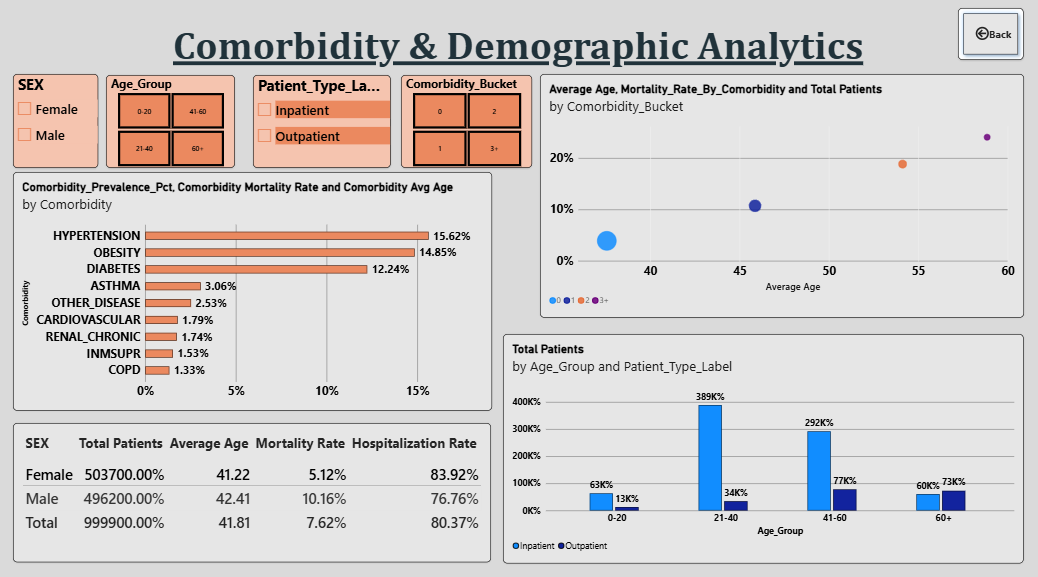

Layout of this report page (visuals, bound fields, positions):
{"tool":"powerbi","page":{"name":"Comorbidity & Demographic Analytics","canvas":[1920,1080],"ordinal":1},"visuals":[{"type":"textbox","box":[10,0,175,145],"z":0},{"type":"textbox","box":[322,50,1275,130],"z":1000},{"type":"clusteredBarChart","fields":{"Category":["Comorbidity_Long.Comorbidity"],"Y":["Measures (2).Comorbidity_Prevalence_Pct"]},"box":[30,323.3,876.7,436.7],"z":2000},{"type":"scatterChart","fields":{"Series":["Covid_Patients.Comorbidity_Bucket"],"Size":["Measures (2).Total Patients"],"X":["Measures (2).Average Age"],"Y":["Measures (2).Mortality_Rate_By_Comorbidity"]},"box":[994,144,886,446],"z":3000},{"type":"tableEx","fields":{"Values":["Covid_Patients.SEX","Measures (2).Total Patients","Measures (2).Average Age","Measures (2).Mortality Rate","Measures (2).Hospitalization_Rate_Pct"]},"box":[30,783.3,875,255],"z":4000},{"type":"clusteredColumnChart","fields":{"Category":["Covid_Patients.Age_Group"],"Series":["Covid_Patients.Patient_Type_Label"],"Y":["Measures (2).Total Patients"]},"box":[926.7,620,953.3,420],"z":5000},{"type":"slicer","fields":{"Values":["Covid_Patients.SEX"]},"box":[30,144,156,172],"z":6000},{"type":"slicer","fields":{"Values":["Covid_Patients.Age_Group"]},"box":[200,146,236,170],"z":7000},{"type":"slicer","fields":{"Values":["Covid_Patients.Patient_Type_Label"]},"box":[468,146,252,170],"z":8000},{"type":"slicer","fields":{"Values":["Covid_Patients.Comorbidity_Bucket"]},"box":[740,146,240,170],"z":9000},{"type":"actionButton","box":[1760,24,120,95],"z":10000}]}

Visuals, with their boxes in screenshot pixels (x1, y1, x2, y2), scaled from the page's 1920x1080 canvas onto the 1038x577 screenshot:
textbox: [5,0,100,77]
textbox: [174,27,863,96]
clusteredBarChart - Comorbidity_Long.Comorbidity x Measures (2).Comorbidity_Prevalence_Pct: [16,173,490,406]
scatterChart - Covid_Patients.Comorbidity_Bucket x Measures (2).Total Patients: [537,77,1016,315]
tableEx - Covid_Patients.SEX x Measures (2).Total Patients: [16,418,489,555]
clusteredColumnChart - Covid_Patients.Age_Group x Covid_Patients.Patient_Type_Label: [501,331,1016,556]
slicer - Covid_Patients.SEX: [16,77,101,169]
slicer - Covid_Patients.Age_Group: [108,78,236,169]
slicer - Covid_Patients.Patient_Type_Label: [253,78,389,169]
slicer - Covid_Patients.Comorbidity_Bucket: [400,78,530,169]
actionButton: [952,13,1016,64]
